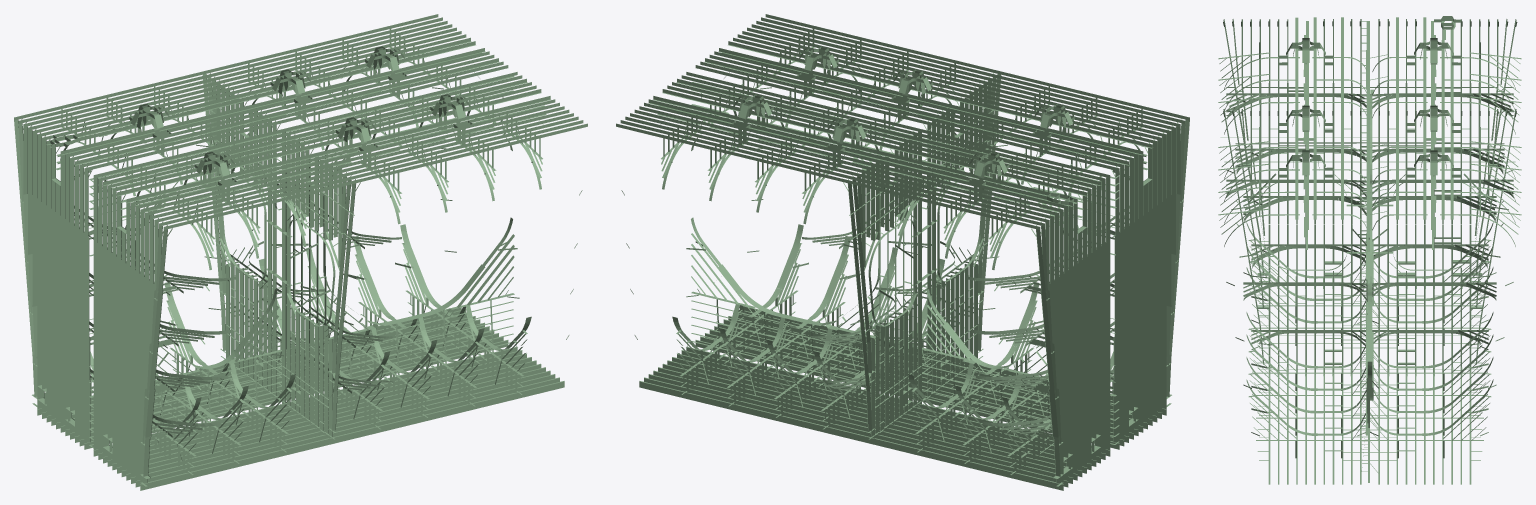
The model's file is NO_5_CENTRAL_CARGO_OIL_TK.glb.
3 renders of one model, left to right at view 1: azimuth 30°, elevation 25°; view 2: azimuth 150°, elevation 25°; view 3: azimuth 270°, elevation 25°, orthographic. The views are drawn at different scales.
Bounding box in the file's own units: 47.16 × 31.5 × 29.9.
